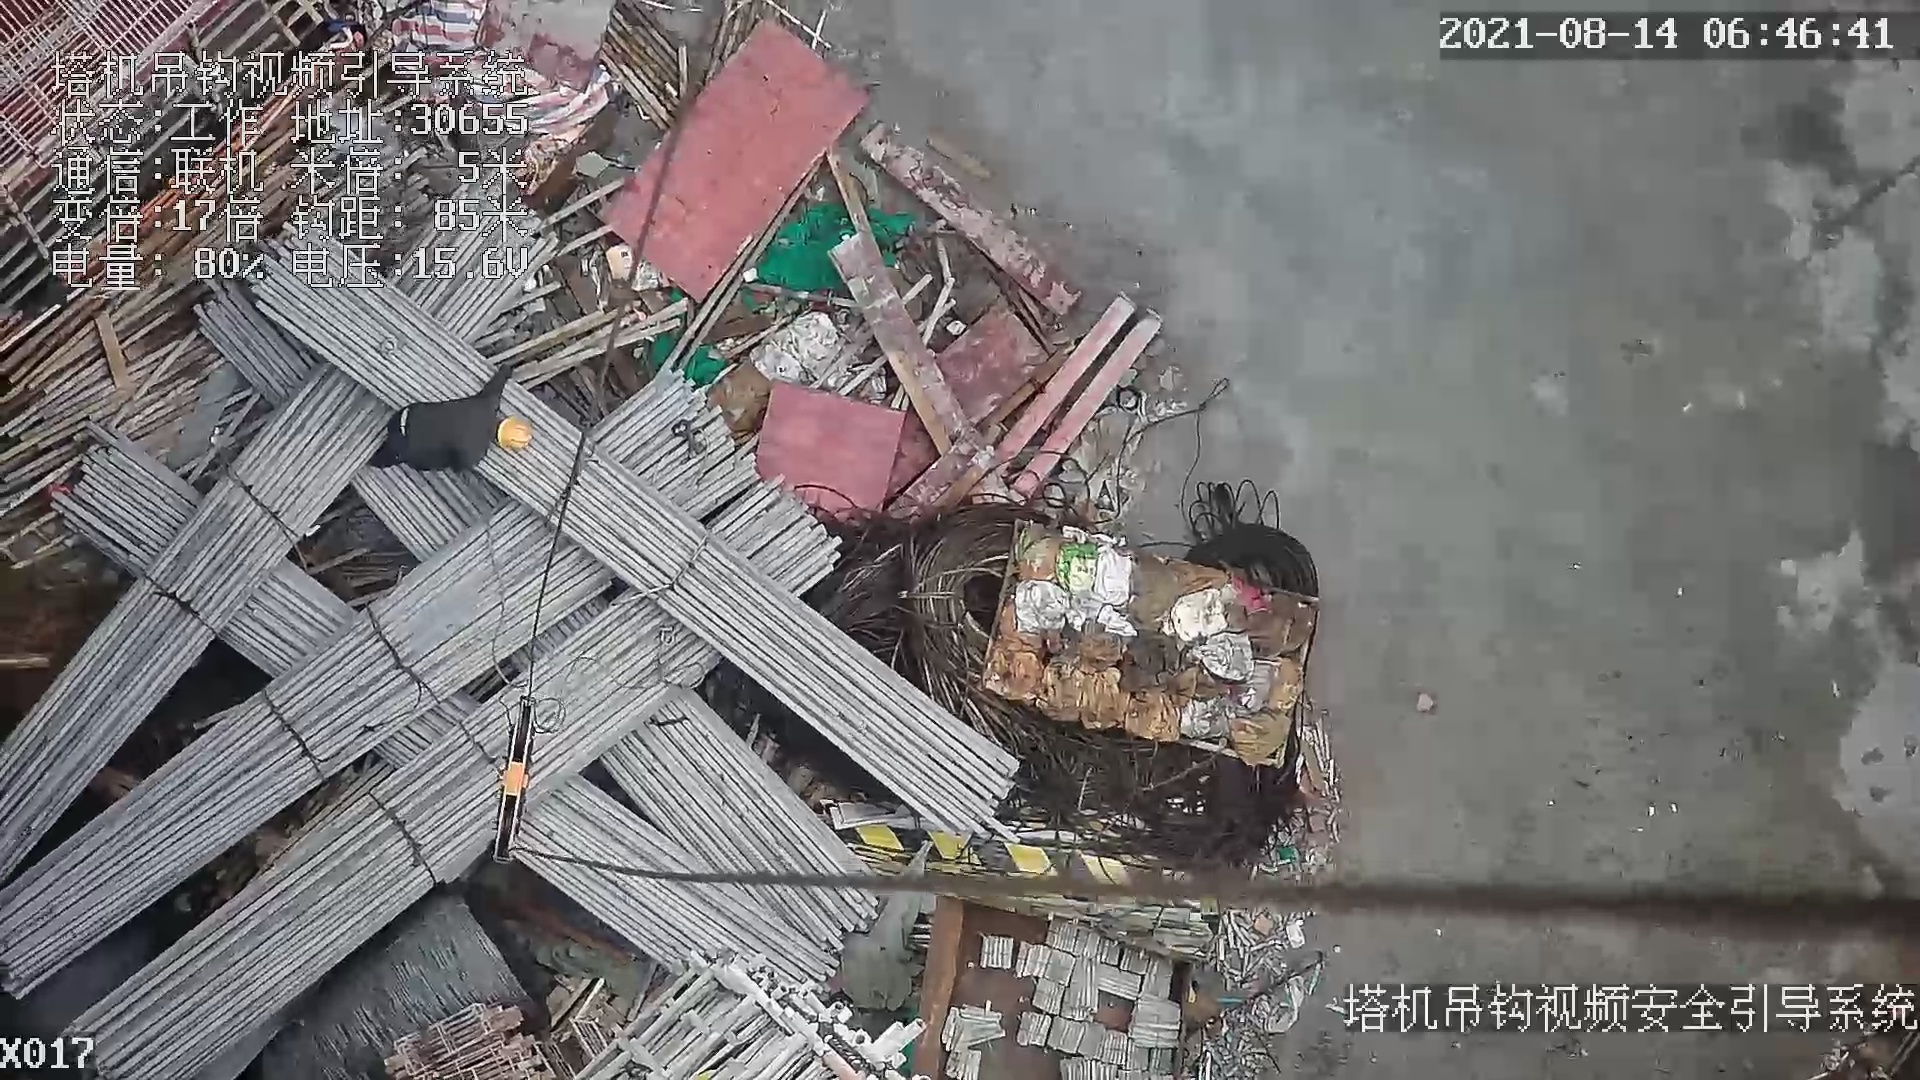board: (595, 17, 864, 295)
helmet: (499, 416, 540, 456)
hook: (490, 685, 538, 873)
person: (362, 362, 538, 477)
